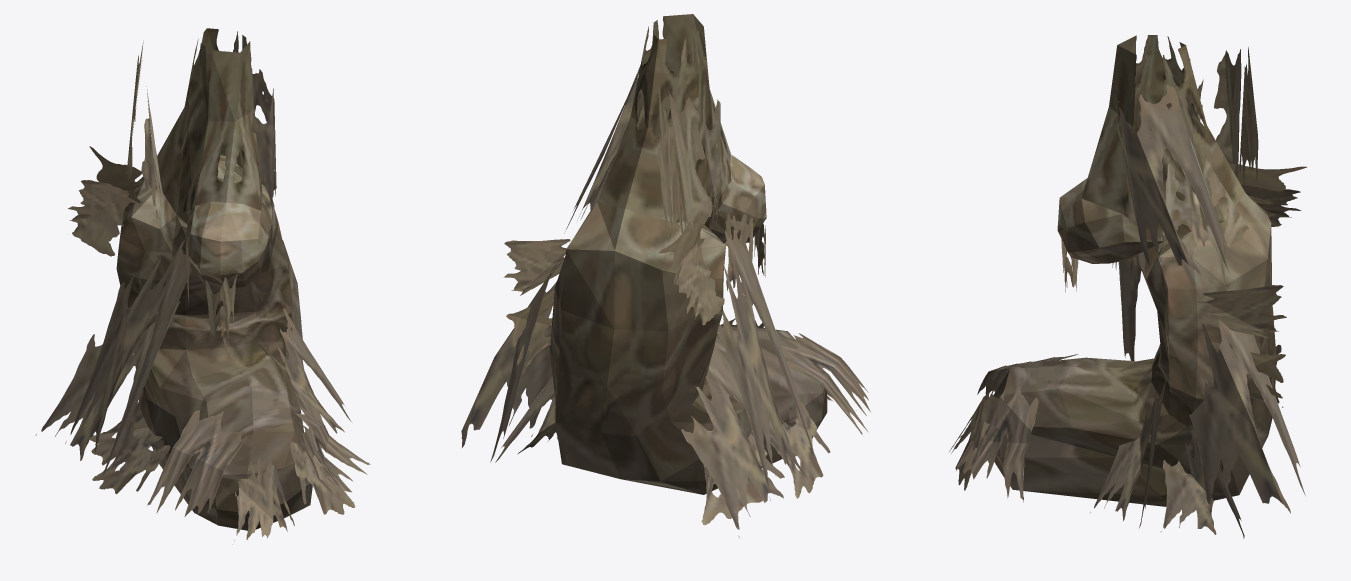
File: webbed_victims_02.fbx
3 views of the same model, side by side, from view 1: azimuth 30°, elevation 25°; view 2: azimuth 150°, elevation 25°; view 3: azimuth 270°, elevation 25° (orthographic). The views are drawn at different scales.
Parts seen in each view (by area): view 1: obj0.490; view 2: obj0.490; view 3: obj0.490.
Part boxes in pixels (x1,y1,x2,y2): obj0.490: (35,28,370,544); obj0.490: (461,14,870,537); obj0.490: (949,35,1306,538).
Bounding box in the file's own units: 1.5 × 1.99 × 1.64.
